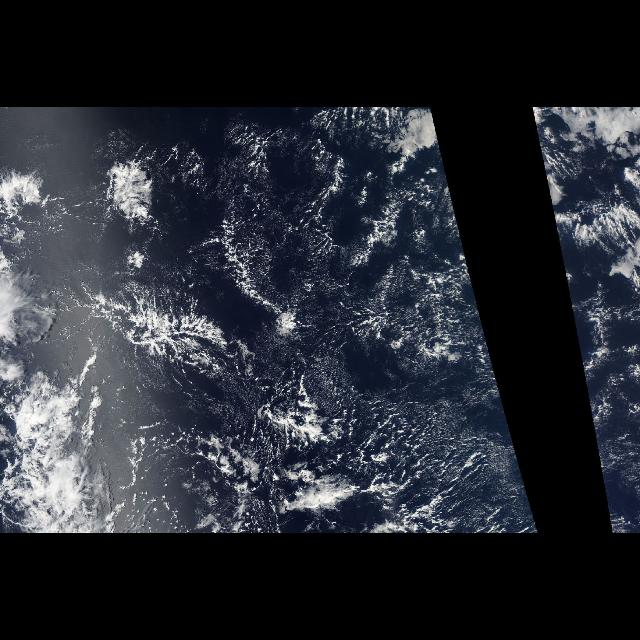Fish: (54, 240, 326, 438)
Gravel: (240, 343, 510, 533)
